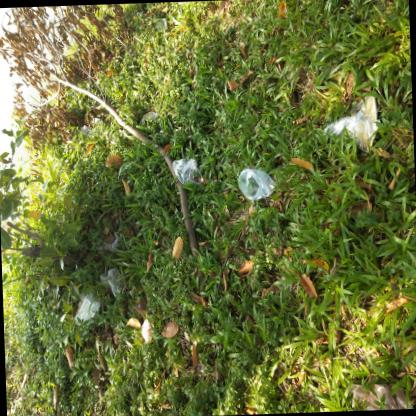Plastic: (323, 95, 381, 152), (350, 382, 406, 409), (239, 168, 274, 199), (73, 290, 101, 324), (173, 158, 203, 184), (100, 268, 122, 297), (100, 230, 121, 251), (80, 117, 100, 139), (140, 111, 160, 126), (141, 317, 151, 343), (157, 17, 167, 30), (137, 11, 142, 17)
